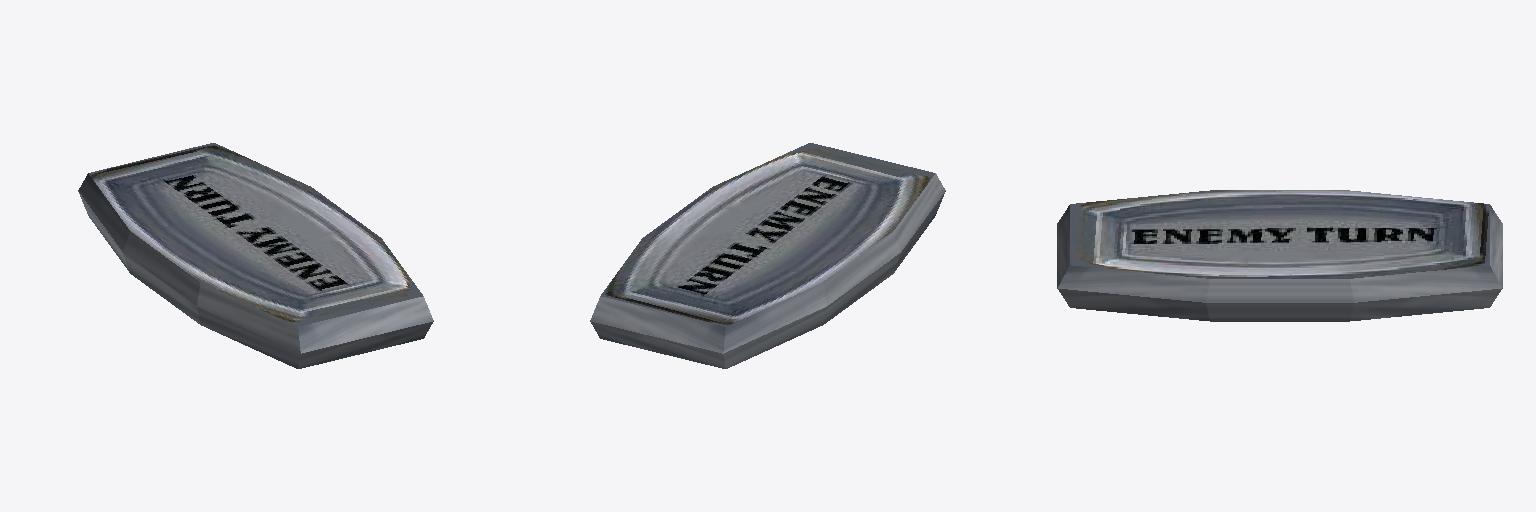
3 views of the same model, side by side, from view 1: azimuth 30°, elevation 25°; view 2: azimuth 150°, elevation 25°; view 3: azimuth 270°, elevation 25° (orthographic).
Parts seen in each view (by area): view 1: pCube1; view 2: pCube1; view 3: pCube1.
Boxes of the visible parts, x1,y1,x2,y2 form: pCube1: [78, 143, 433, 368]; pCube1: [590, 143, 945, 368]; pCube1: [1057, 190, 1502, 321].
Size of the model in its own units: 1.44 by 0.306 by 2.9.
Materials: 3 (3 with a texture image).